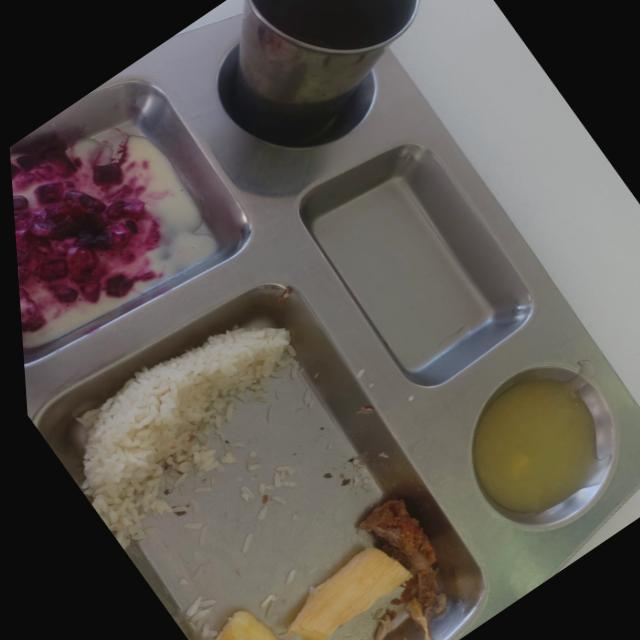arroz: (78, 327, 294, 547), (171, 483, 175, 485), (221, 459, 224, 461), (174, 480, 175, 481)
pescado frito: (358, 499, 441, 621), (424, 625, 429, 638), (407, 604, 413, 609), (410, 611, 412, 615)
yuca: (286, 547, 410, 639), (215, 610, 278, 639)
